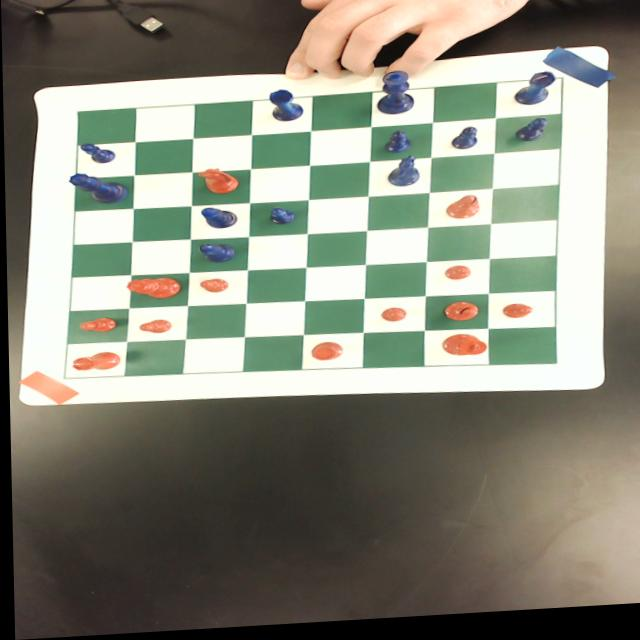B: (195, 245, 235, 267), (198, 209, 236, 232)
K: (374, 75, 413, 121)
N: (385, 158, 420, 192)
P: (512, 124, 547, 149), (77, 142, 113, 166), (381, 135, 410, 159), (448, 132, 477, 156), (266, 209, 295, 229)
Q: (66, 172, 127, 208)
R: (508, 77, 554, 113), (266, 92, 300, 126)
b: (444, 200, 478, 226), (441, 306, 477, 328)
cb: (61, 85, 562, 380)
k: (439, 338, 484, 362)
n: (195, 169, 238, 198)
p: (77, 318, 115, 334), (135, 320, 169, 337), (499, 308, 531, 326), (196, 281, 226, 297), (377, 311, 405, 328), (441, 270, 469, 287)
q: (123, 278, 179, 302)
r: (68, 352, 119, 373), (307, 345, 340, 365)
